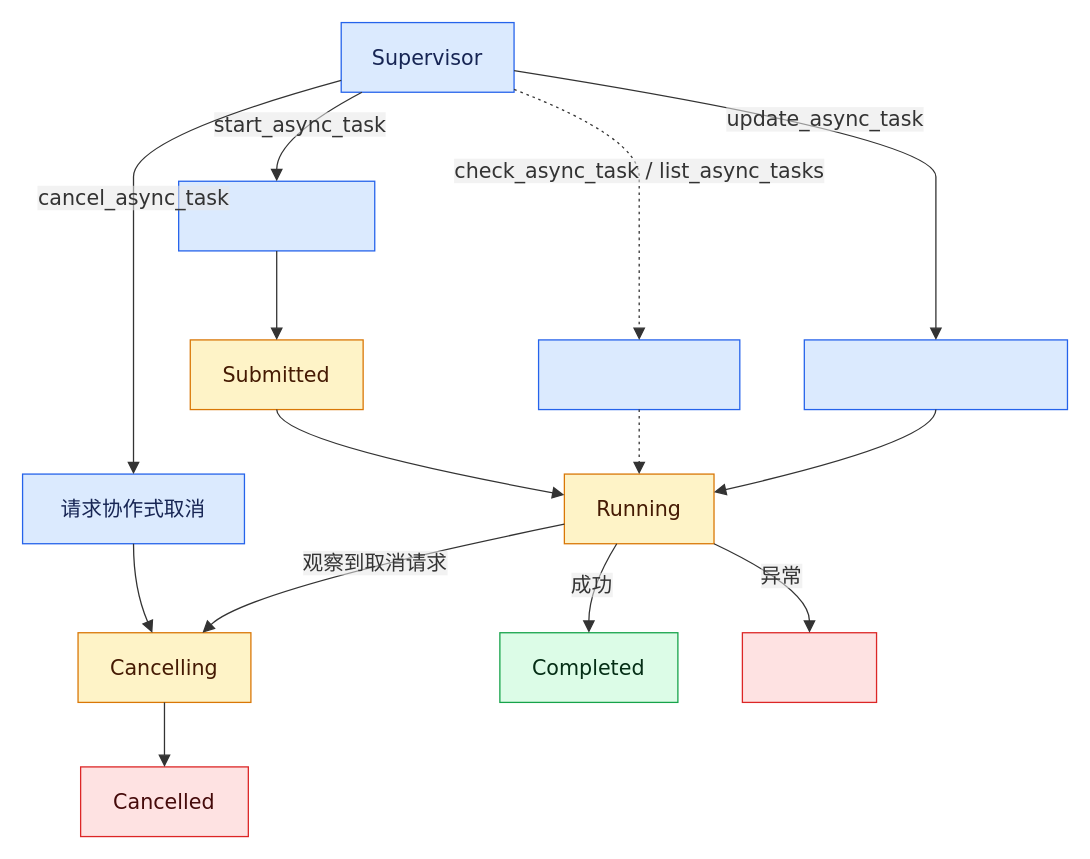
This 1090x859 diagram has some shape labels left out. Here are the shapes that lost their labels. From the top down, the box of each, then its label:
(177, 180, 375, 251): Agent Server
(537, 339, 740, 410): 读取任务状态
(803, 339, 1067, 410): 更新运行中任务指令
(741, 631, 877, 702): Failed
